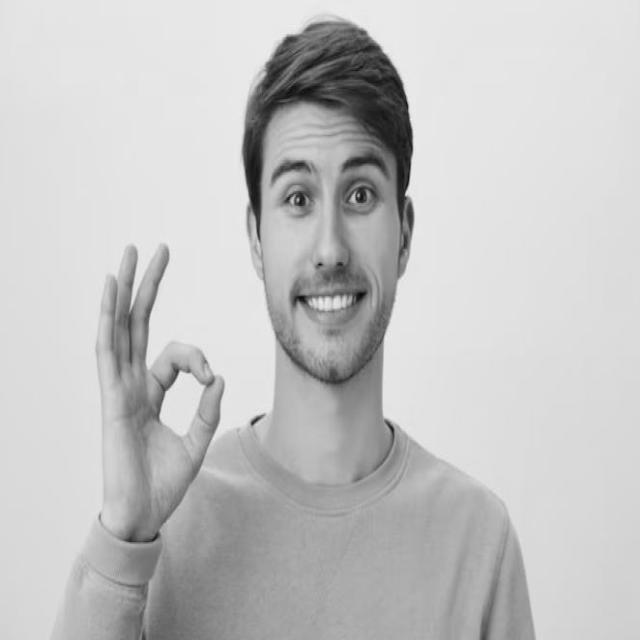perfect: (91, 236, 228, 546)
